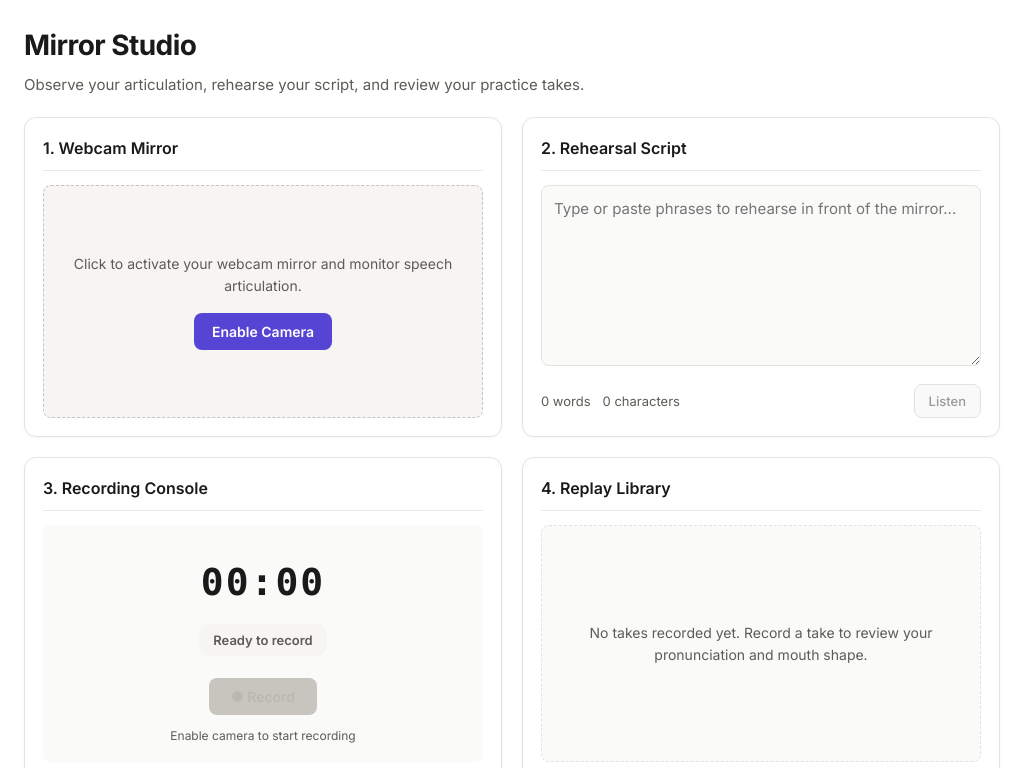
Scenario: MirrorPage Component › Square 1: Live Webcam Mirror › shows error notice and retry button when camera permission is denied
The width and height of the screenshot is (1024, 768).
Click the button "Enable Camera".
click(263, 331)  # box [194, 313, 332, 350]
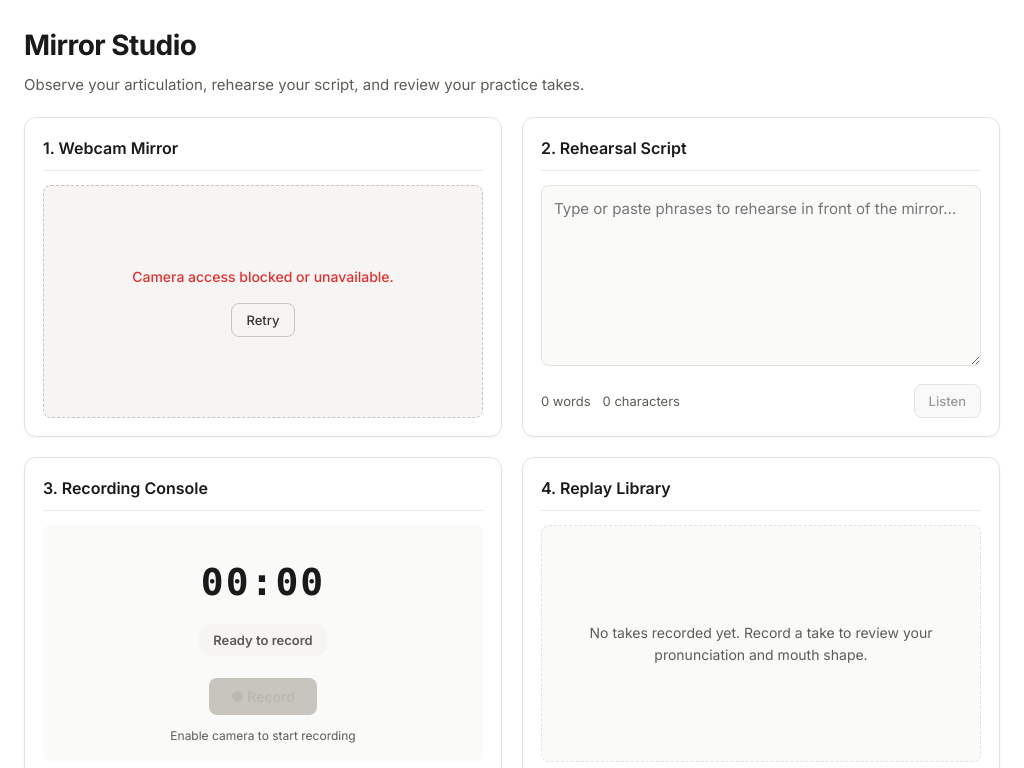
Now the text "Camera access blocked or unavailable." is shown, box [132, 266, 394, 287]
Now the button "Retry" is shown, box [232, 303, 294, 337]
